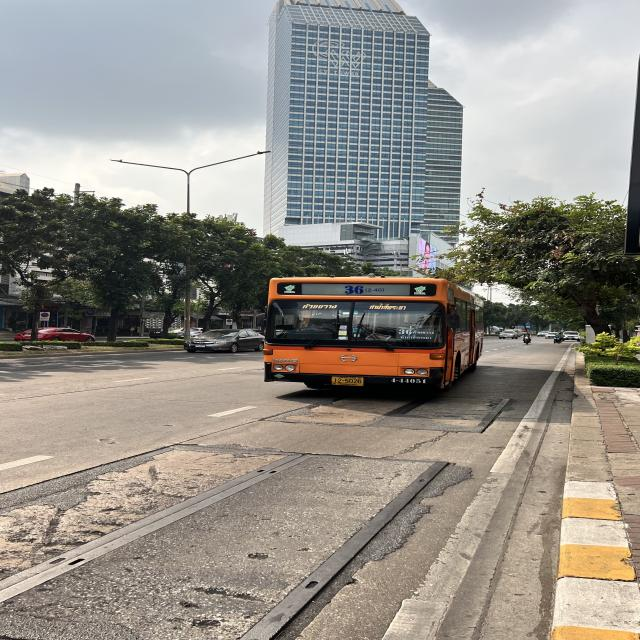BMTA-bus: (262, 275, 486, 393)
Bus Line Number: (338, 283, 390, 296)
Bus Side Number: (386, 377, 432, 385)
Destination Sign: (396, 327, 434, 341)
